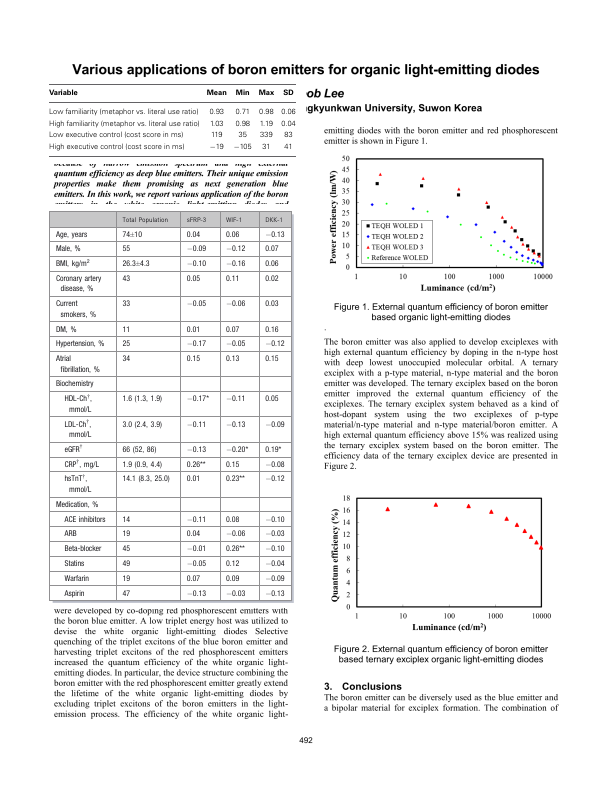bordered: (49, 209, 291, 600)
borderless: (48, 83, 296, 157)
cell: (47, 120, 200, 129), (47, 108, 199, 117), (47, 143, 185, 152), (47, 131, 184, 140), (54, 275, 102, 294), (54, 355, 100, 374), (54, 300, 97, 320), (63, 393, 92, 415), (63, 419, 92, 440), (63, 474, 92, 495), (54, 340, 105, 349), (121, 475, 170, 484), (54, 500, 99, 509), (54, 258, 90, 269), (63, 515, 106, 524), (121, 395, 163, 404), (121, 420, 163, 429), (121, 460, 163, 469), (121, 217, 168, 225), (54, 380, 94, 389), (121, 445, 157, 455), (63, 459, 99, 469), (63, 545, 102, 554), (54, 230, 88, 239), (121, 260, 150, 269), (224, 445, 249, 455), (47, 89, 78, 97), (54, 245, 81, 254), (63, 574, 90, 583), (63, 444, 83, 455), (185, 445, 207, 455), (63, 559, 85, 569), (185, 559, 207, 569), (185, 395, 209, 404), (264, 559, 285, 569), (54, 325, 77, 334), (121, 230, 143, 239), (185, 245, 207, 254), (224, 245, 246, 254), (185, 260, 207, 269), (224, 260, 246, 269), (185, 300, 207, 309), (224, 300, 246, 309), (185, 340, 207, 349), (224, 340, 246, 349), (224, 395, 246, 404), (185, 420, 207, 429), (224, 420, 246, 429), (185, 515, 207, 524), (224, 530, 246, 539), (185, 545, 207, 554), (63, 589, 85, 598), (185, 589, 207, 598), (224, 589, 246, 598), (264, 230, 285, 239), (264, 340, 285, 349), (264, 420, 285, 429), (185, 460, 206, 469), (264, 460, 285, 469), (224, 475, 245, 484), (264, 475, 285, 484), (264, 515, 285, 524), (264, 530, 285, 539), (224, 545, 245, 554), (264, 545, 285, 554), (264, 574, 285, 583), (264, 589, 285, 598), (232, 143, 252, 152), (264, 445, 282, 455), (205, 89, 227, 97), (185, 217, 207, 225), (224, 559, 240, 569), (257, 108, 274, 117), (264, 217, 283, 225), (208, 108, 224, 117), (234, 108, 250, 117), (280, 108, 296, 117), (208, 120, 224, 129), (234, 120, 250, 129), (280, 120, 296, 129), (208, 143, 224, 152), (224, 217, 242, 225), (185, 230, 201, 239), (224, 230, 240, 239), (185, 275, 201, 284), (224, 275, 240, 284), (185, 325, 201, 334), (224, 325, 240, 334), (185, 355, 201, 364), (224, 355, 240, 364), (224, 460, 240, 469), (185, 475, 201, 484), (224, 515, 240, 524), (185, 530, 201, 539), (185, 574, 201, 583), (224, 574, 240, 583), (257, 89, 274, 97), (258, 120, 273, 129), (258, 131, 273, 140), (264, 245, 279, 254), (264, 260, 279, 269), (264, 275, 279, 284), (264, 300, 279, 309), (264, 325, 279, 334), (264, 355, 279, 364), (264, 395, 279, 404), (234, 89, 250, 97), (209, 131, 223, 140), (63, 530, 77, 539), (121, 559, 131, 569), (282, 89, 294, 97), (237, 131, 247, 140), (283, 131, 293, 140), (261, 143, 271, 152), (283, 143, 293, 152), (121, 245, 131, 254), (121, 275, 131, 284), (121, 300, 131, 309), (121, 325, 131, 334), (121, 340, 131, 349), (121, 355, 131, 364), (121, 515, 131, 524), (121, 530, 131, 539), (121, 545, 131, 554), (121, 574, 131, 583), (121, 589, 131, 598)
